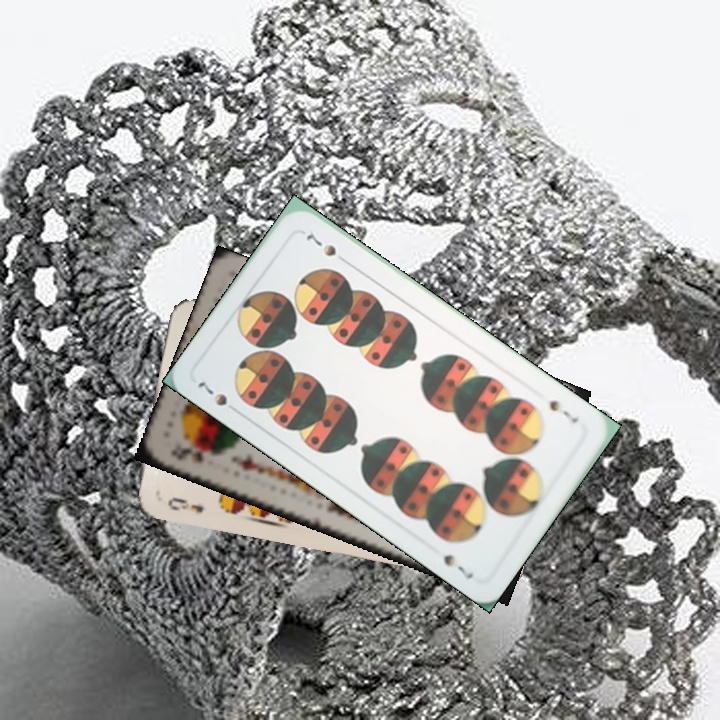E9: (163, 493, 207, 516)
S7: (193, 377, 243, 417), (544, 395, 581, 426)
SK: (167, 440, 210, 467)
